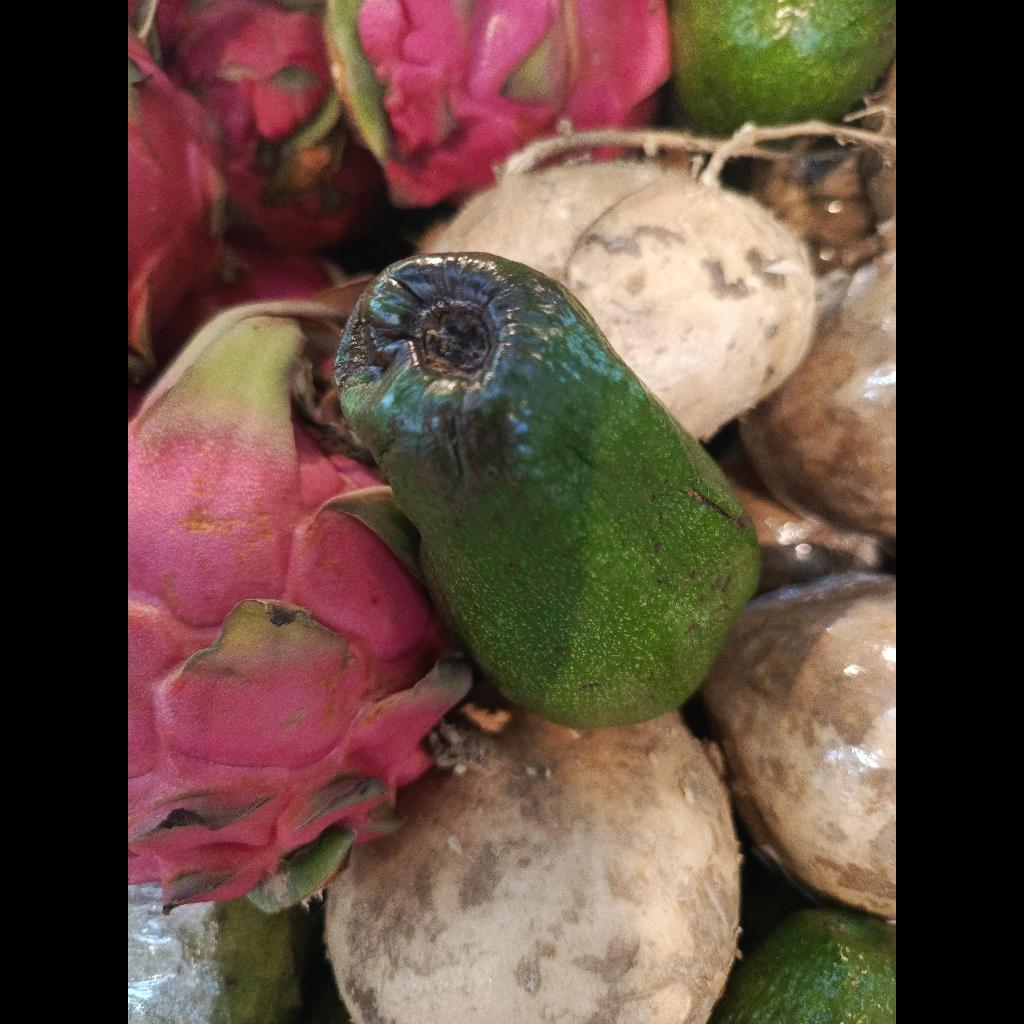pudricion_peduncular: (334, 252, 759, 728)
